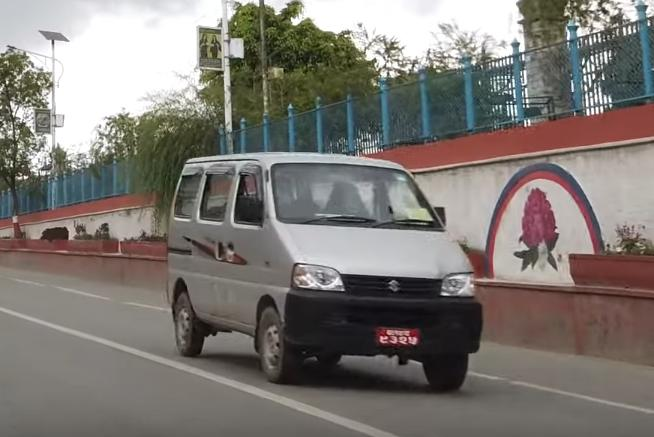van: (162, 150, 489, 392)
